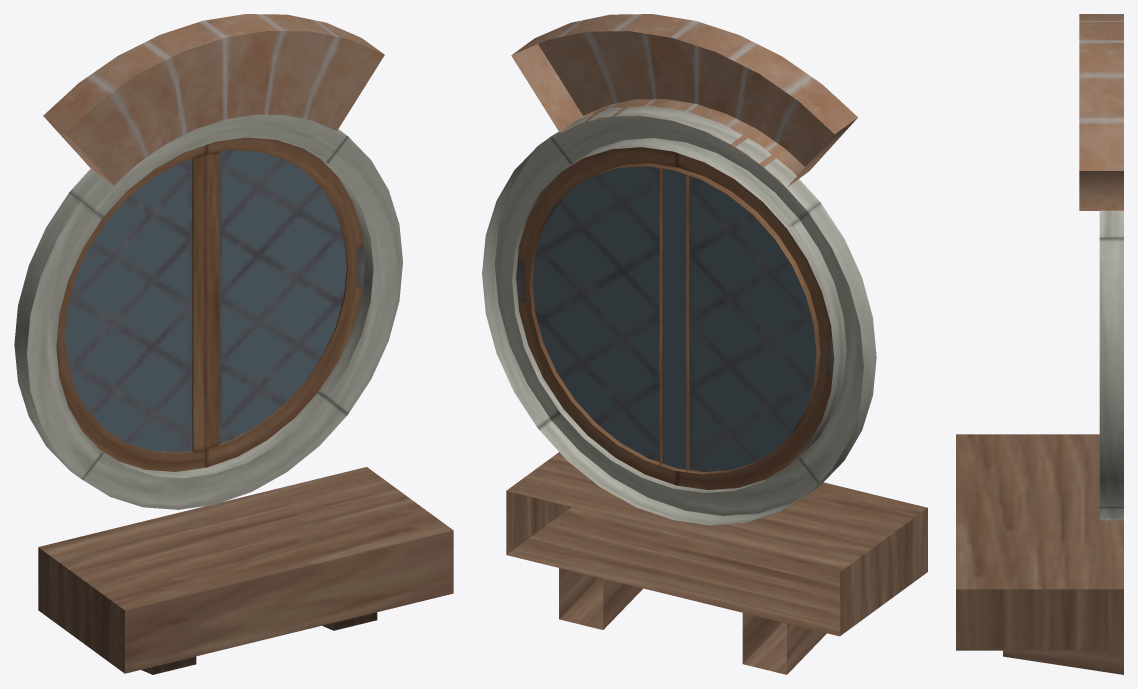
File: sb_obj_outdoor028_window09.fbx
3 renders of one model, left to right at view 1: azimuth 30°, elevation 25°; view 2: azimuth 150°, elevation 25°; view 3: azimuth 270°, elevation 25°, orthographic. The views are drawn at different scales.
Visible parts, largest first — view 1: 09_low.004; view 2: 09_low.004; view 3: 09_low.004.
Part boxes in pixels (x1,y1,x2,y2): 09_low.004: (14, 14, 453, 674); 09_low.004: (482, 14, 927, 674); 09_low.004: (956, 14, 1123, 674).
Size of the model in its own units: 0.9271 by 1.41 by 0.3703.
